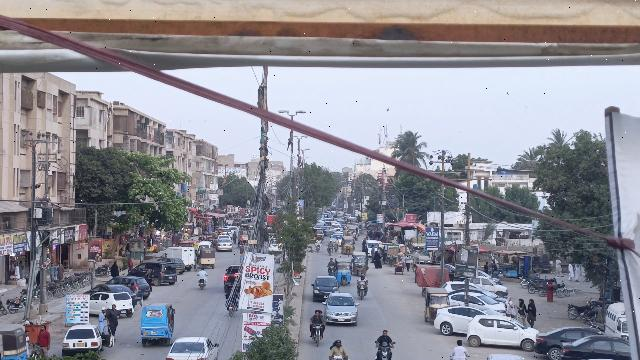Bike: (310, 322, 325, 347), (375, 345, 395, 360), (357, 282, 370, 300), (226, 301, 237, 321), (196, 278, 207, 293)
Car: (466, 313, 540, 352), (433, 305, 494, 337), (60, 323, 114, 356), (164, 336, 222, 360), (88, 290, 135, 319), (323, 291, 360, 327), (129, 261, 180, 287), (107, 274, 151, 298), (309, 273, 341, 303), (219, 264, 242, 291)
Person: (35, 323, 50, 360), (106, 300, 120, 338), (375, 327, 394, 347), (526, 297, 538, 327), (502, 294, 516, 317), (515, 296, 526, 324), (98, 305, 109, 329), (225, 285, 239, 303), (195, 267, 209, 281), (356, 271, 369, 286), (311, 310, 324, 324)
Rickshaw: (139, 302, 175, 347), (421, 286, 449, 324), (334, 256, 352, 285), (351, 251, 370, 277)
Truck: (166, 245, 195, 270)
